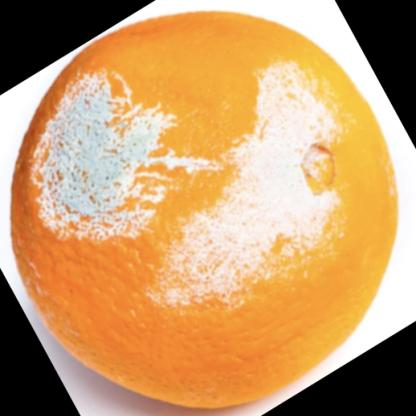rotten: (13, 12, 398, 407)
